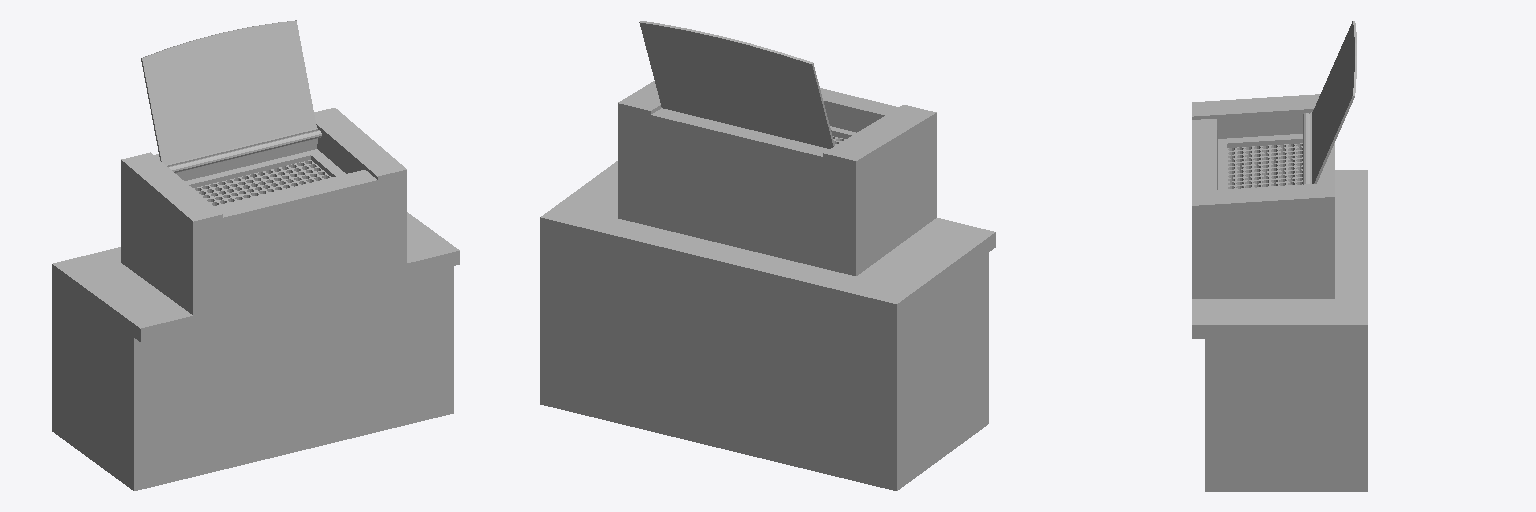
The robot description file, URDF, robot "table_lazercutter2":
<?xml version="1.0" encoding="utf-8"?>
<!-- This URDF was automatically created by SolidWorks to URDF Exporter! Originally created by [author] ([email redacted]) 
     Commit Version: 1.6.0-1-g15f4949  Build Version: 1.6.7594.29634
     For more information, please see http://wiki.ros.org/sw_urdf_exporter -->
<robot
  name="table_lazercutter2">
  <link
    name="base_link">
    <inertial>
      <origin
        xyz="0.72851 0.30774 0.47274"
        rpy="0 0 0" />
      <mass
        value="858.33" />
      <inertia
        ixx="64.063"
        ixy="0"
        ixz="0"
        iyy="172.62"
        iyz="0"
        izz="169.25" />
    </inertial>
    <visual>
      <origin
        xyz="0 0 0"
        rpy="0 0 0" />
      <geometry>
        <mesh
          filename="package://table_lazercutter2/meshes/base_link.STL" />
      </geometry>
      <material
        name="">
        <color
          rgba="0.75294 0.75294 0.75294 1" />
      </material>
    </visual>
    <collision>
      <origin
        xyz="0 0 0"
        rpy="0 0 0" />
      <geometry>
        <mesh
          filename="package://table_lazercutter2/meshes/base_link.STL" />
      </geometry>
    </collision>
  </link>
</robot>

--- Facts derived from the render (not from the file) ---
3 views of the same robot in one strip: view 1: azimuth 30°, elevation 25°; view 2: azimuth 150°, elevation 25°; view 3: azimuth 270°, elevation 25° (orthographic).
Robot: table_lazercutter2 — 1 links, 0 joints (none); root link base_link; default pose: every joint at zero.
Visible links, largest first — view 1: base_link; view 2: base_link; view 3: base_link.
Link boxes in pixels (bbox=[...]): base_link: bbox=[52, 20, 459, 490]; base_link: bbox=[540, 21, 995, 490]; base_link: bbox=[1192, 21, 1367, 491].
Bounding box of the posed robot: 1.46 × 0.7 × 1.58 m (x, y, z).
Meshes: 1 distinct files referenced, 1 mesh visuals loaded (1 binary STL).